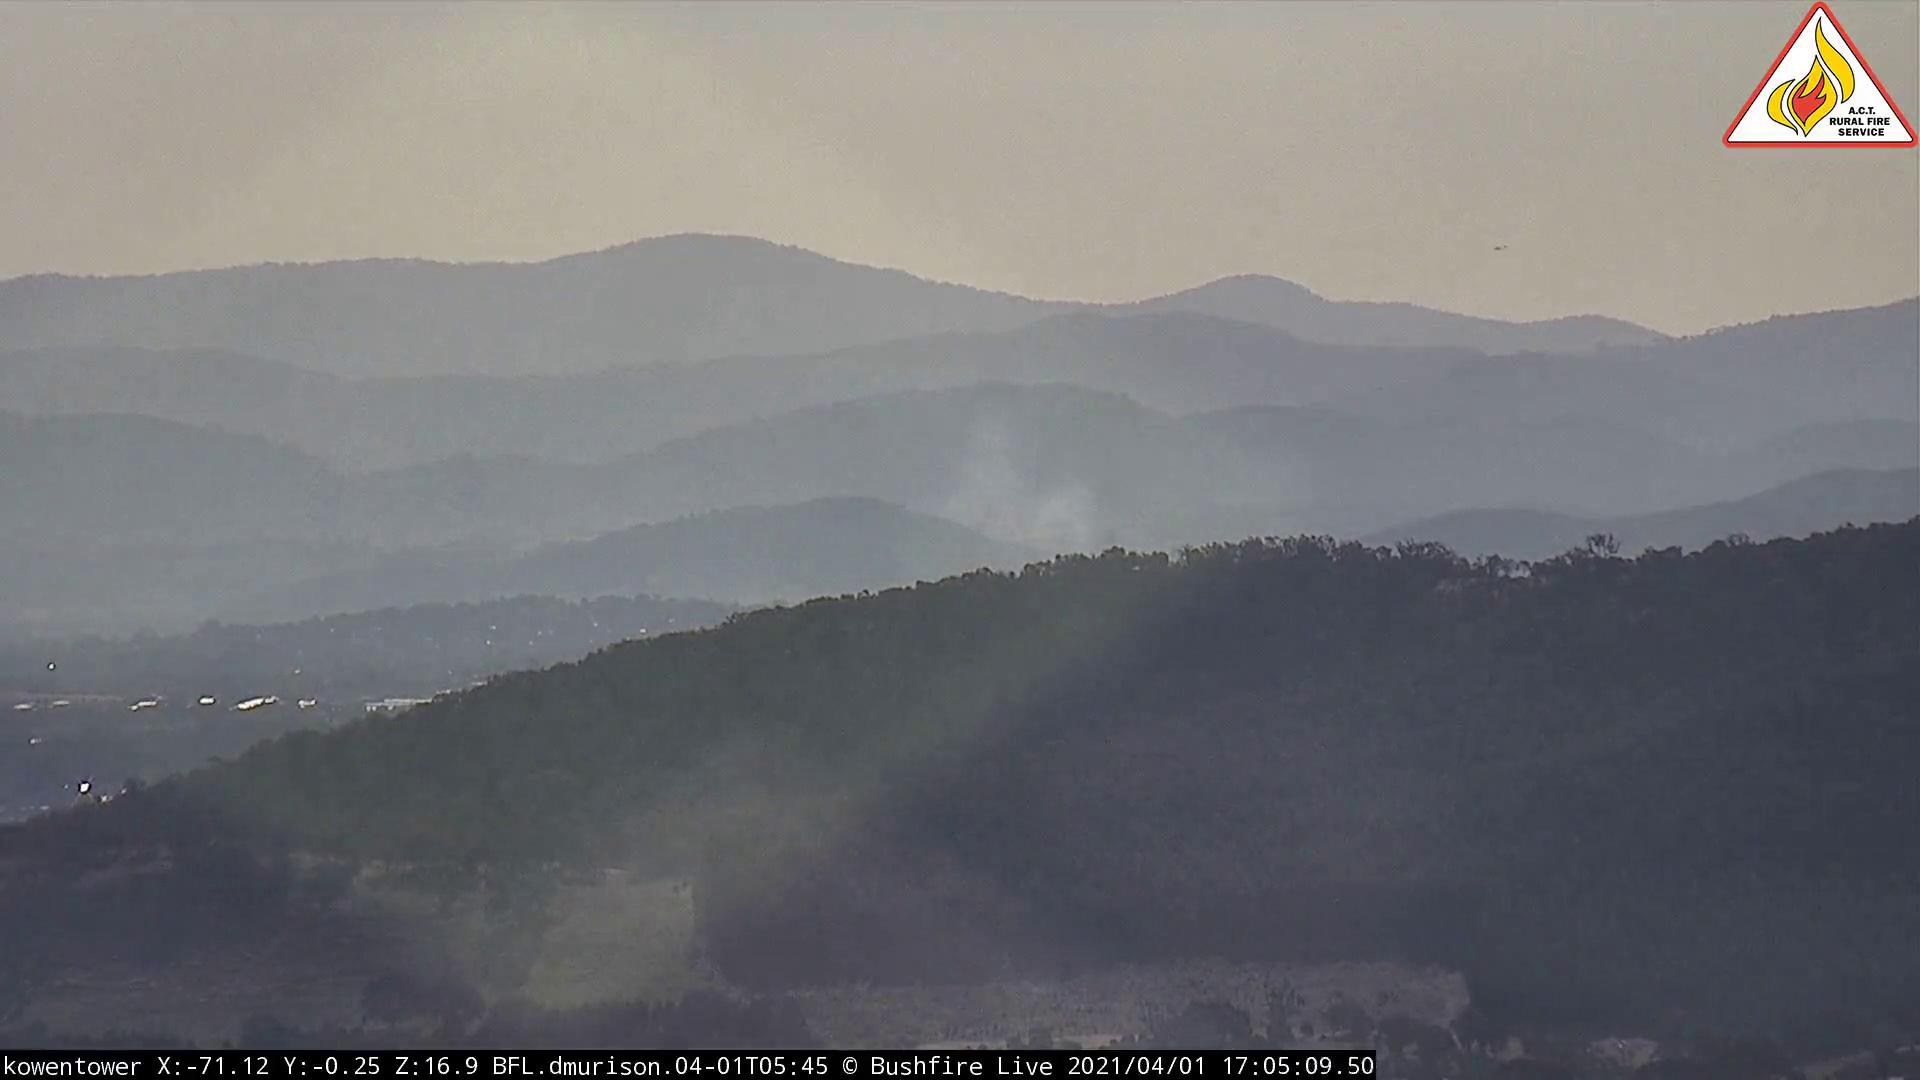Smoke: (919, 423, 1175, 618)
